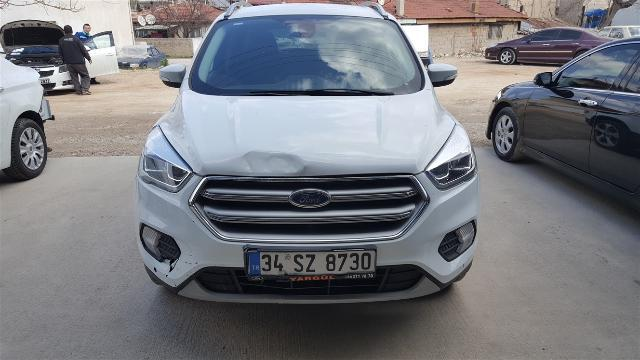crack: (242, 244, 293, 284), (159, 254, 180, 265)
dent: (240, 148, 310, 177)
no part: (154, 267, 157, 272)
scratch: (165, 257, 180, 278), (174, 265, 196, 276), (457, 263, 465, 270), (190, 262, 199, 268), (172, 280, 177, 287), (185, 262, 188, 264)
